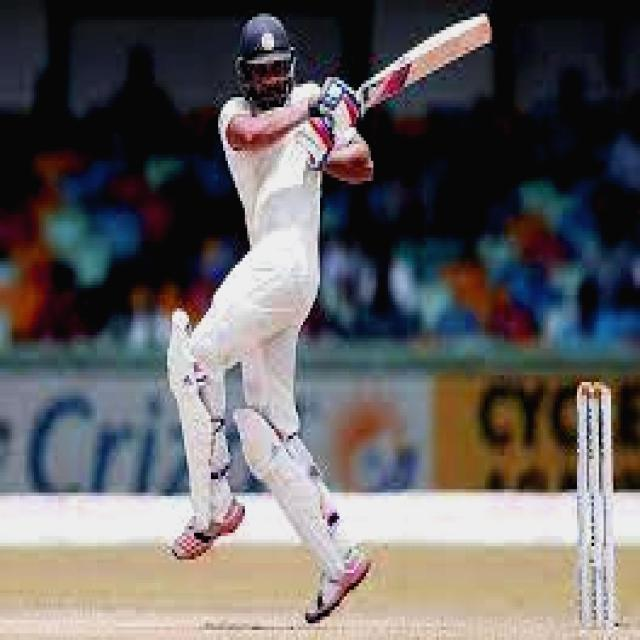toe: (468, 8, 495, 52)
